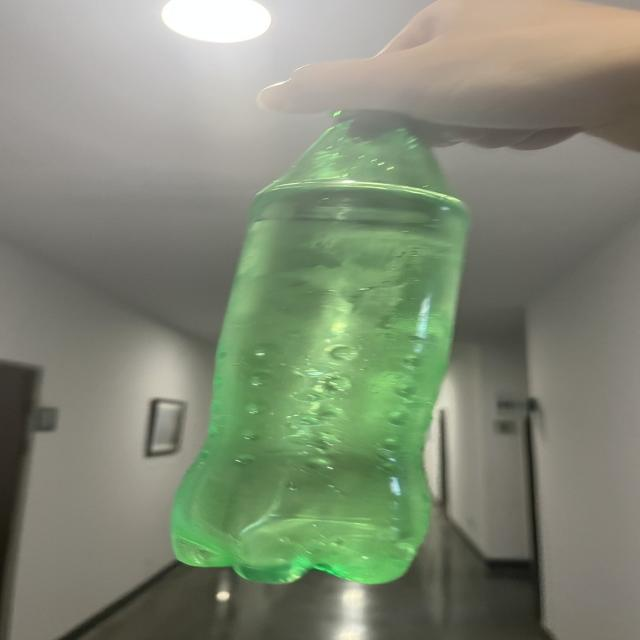high: (172, 111, 467, 584)
